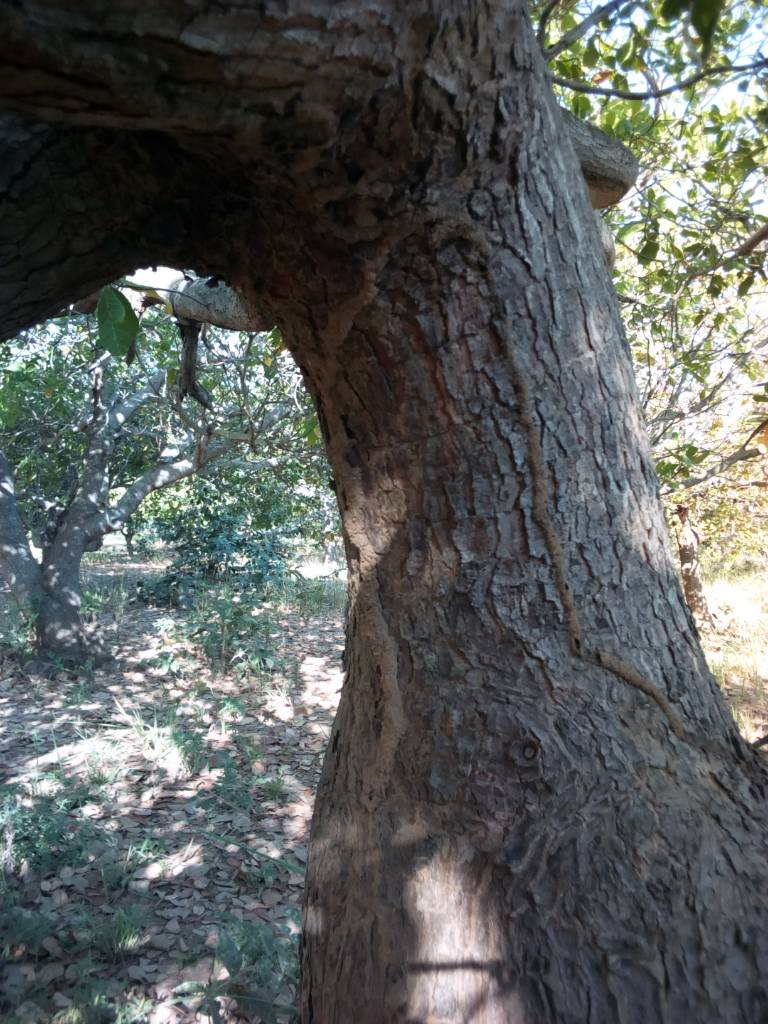Termites: (497, 288, 686, 725), (321, 202, 424, 814)
